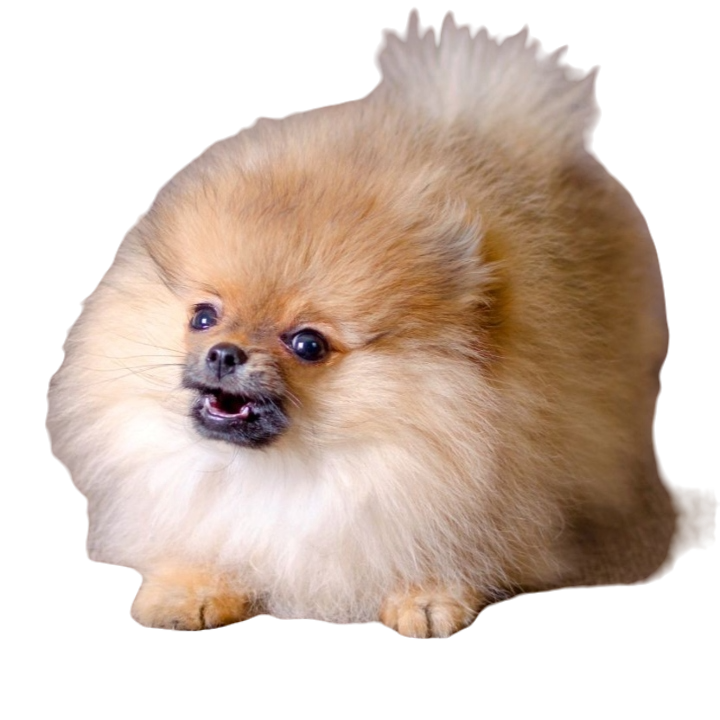Dog: (42, 15, 670, 636)
